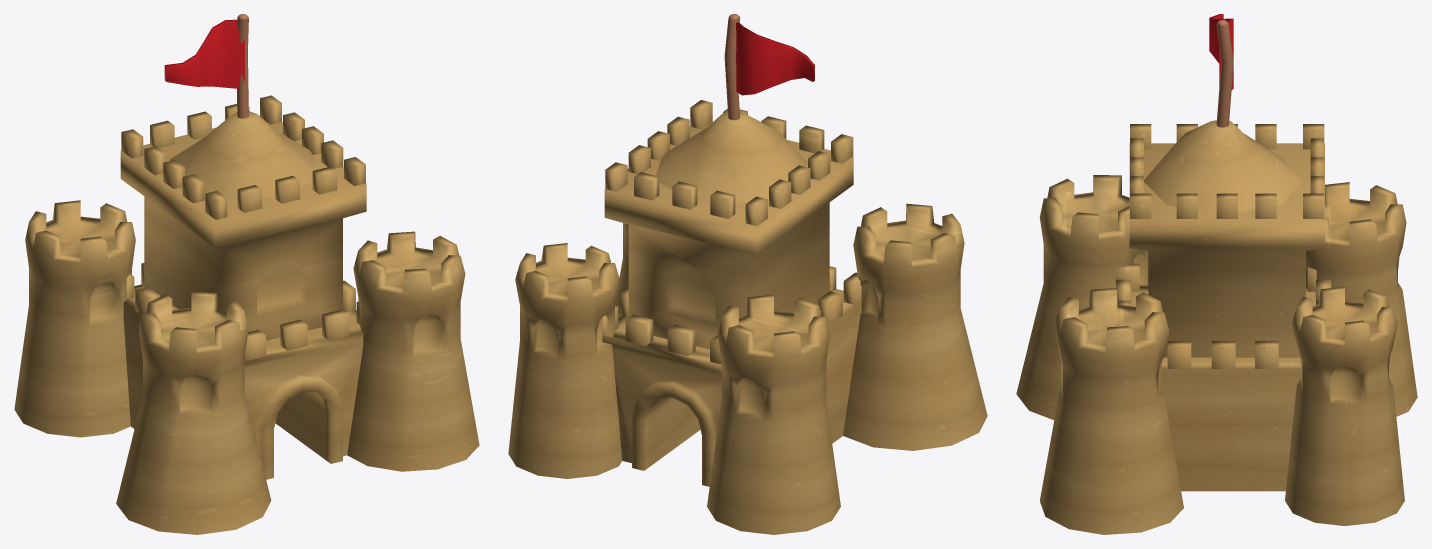
Rendered from Sand_Castle_Medium.fbx.
3 renders of one model, left to right at view 1: azimuth 30°, elevation 25°; view 2: azimuth 150°, elevation 25°; view 3: azimuth 270°, elevation 25°, orthographic. The views are drawn at different scales.
Parts seen in each view (by area): view 1: sandcastle_med; view 2: sandcastle_med; view 3: sandcastle_med.
Boxes of the visible parts, x1,y1,x2,y2 form: sandcastle_med: [14, 14, 479, 534]; sandcastle_med: [508, 14, 987, 534]; sandcastle_med: [1016, 14, 1417, 534].
Size of the model in its own units: 1.19 by 1.35 by 1.15.
